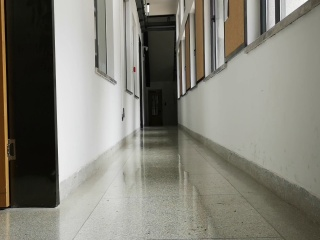room: (1, 2, 65, 209)
